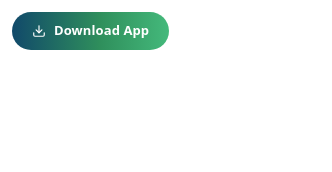
DownloadAppButton › routes to the shared download page
Click the button "Download App" at (91, 31), box [12, 12, 169, 50]
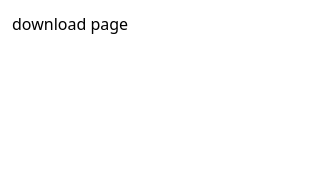
expect the text "download page" is shown: met, box [12, 13, 128, 35]
